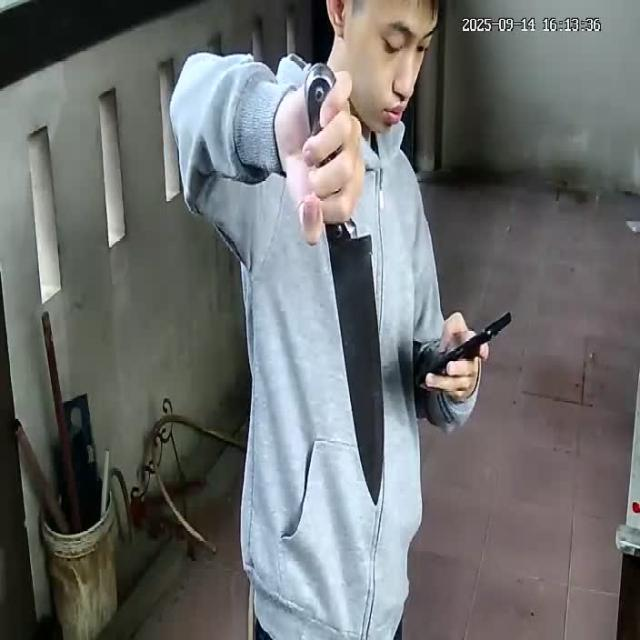senjata_tajam: (324, 225, 388, 508)
